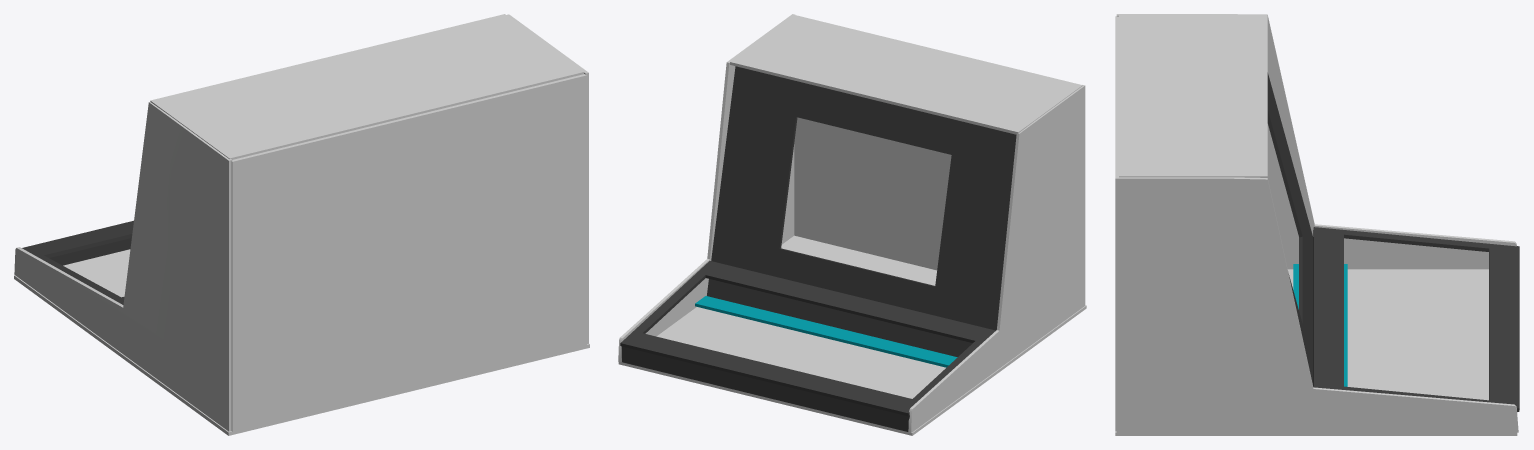
Rendered from Terminal.fbx.
3 views of the same model, side by side, from view 1: azimuth 30°, elevation 25°; view 2: azimuth 150°, elevation 25°; view 3: azimuth 270°, elevation 25° (orthographic). The views are drawn at different scales.
Parts seen in each view (by area): view 1: Backplate, Side Right, Lid, Baseplate, Keyboard cover, Keyboard Lip, Side Left; view 2: Screen, Side Right, Lid, Backplate, Baseplate, Keyboard cover, Keyboard Lip, Side Left, screen slot 2; view 3: Side Left, Lid, Baseplate, Keyboard cover, Side Right, Screen, Backplate, screen slot 2.
Boxes of the visible parts, bbox=[...] form: Backplate: bbox=[231, 74, 586, 432]; Side Right: bbox=[14, 102, 232, 431]; Lid: bbox=[150, 14, 583, 159]; Baseplate: bbox=[14, 249, 589, 435]; Keyboard cover: bbox=[22, 220, 133, 304]; Keyboard Lip: bbox=[49, 238, 131, 265]; Side Left: bbox=[506, 14, 588, 343]; Screen: bbox=[707, 66, 1016, 357]; Side Right: bbox=[908, 85, 1085, 432]; Lid: bbox=[730, 15, 1082, 134]; Backplate: bbox=[794, 117, 951, 270]; Baseplate: bbox=[618, 235, 1086, 435]; Keyboard cover: bbox=[620, 261, 995, 416]; Keyboard Lip: bbox=[621, 346, 909, 431]; Side Left: bbox=[618, 14, 794, 362]; screen slot 2: bbox=[695, 296, 957, 367]; Side Left: bbox=[1116, 177, 1518, 432]; Lid: bbox=[1119, 14, 1267, 177]; Baseplate: bbox=[1115, 269, 1517, 435]; Keyboard cover: bbox=[1313, 227, 1519, 411]; Side Right: bbox=[1116, 14, 1516, 269]; Screen: bbox=[1267, 72, 1313, 385]; Backplate: bbox=[1115, 16, 1118, 431]; screen slot 2: bbox=[1344, 264, 1347, 386].
Bounding box in the file's own units: 3214 × 2338 × 3321.
